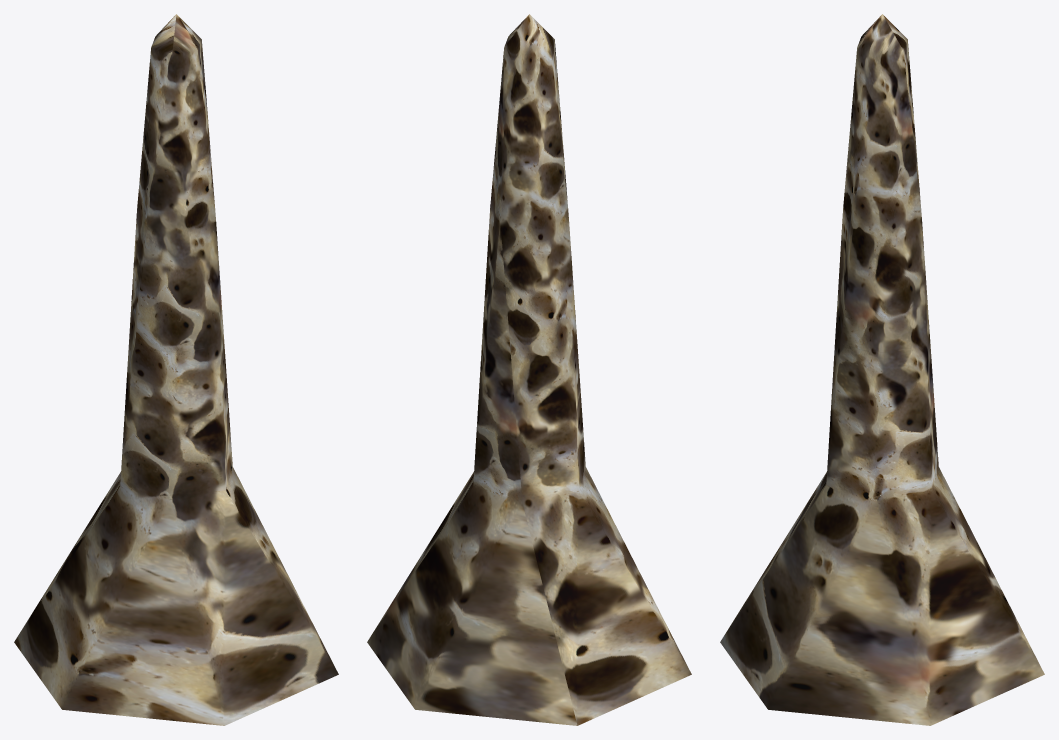
Rendered from CoralStone-03_LOD1.fbx.
3 renders of one model, left to right at view 1: azimuth 30°, elevation 25°; view 2: azimuth 150°, elevation 25°; view 3: azimuth 270°, elevation 25°, orthographic.
Parts seen in each view (by area): view 1: CoralStone-03_medium; view 2: CoralStone-03_medium; view 3: CoralStone-03_medium.
Boxes of the visible parts, bbox=[...] form: CoralStone-03_medium: bbox=[14, 14, 338, 725]; CoralStone-03_medium: bbox=[367, 14, 691, 725]; CoralStone-03_medium: bbox=[720, 14, 1044, 725].
Size of the model in its own units: 0.1675 by 0.3725 by 0.1702.
